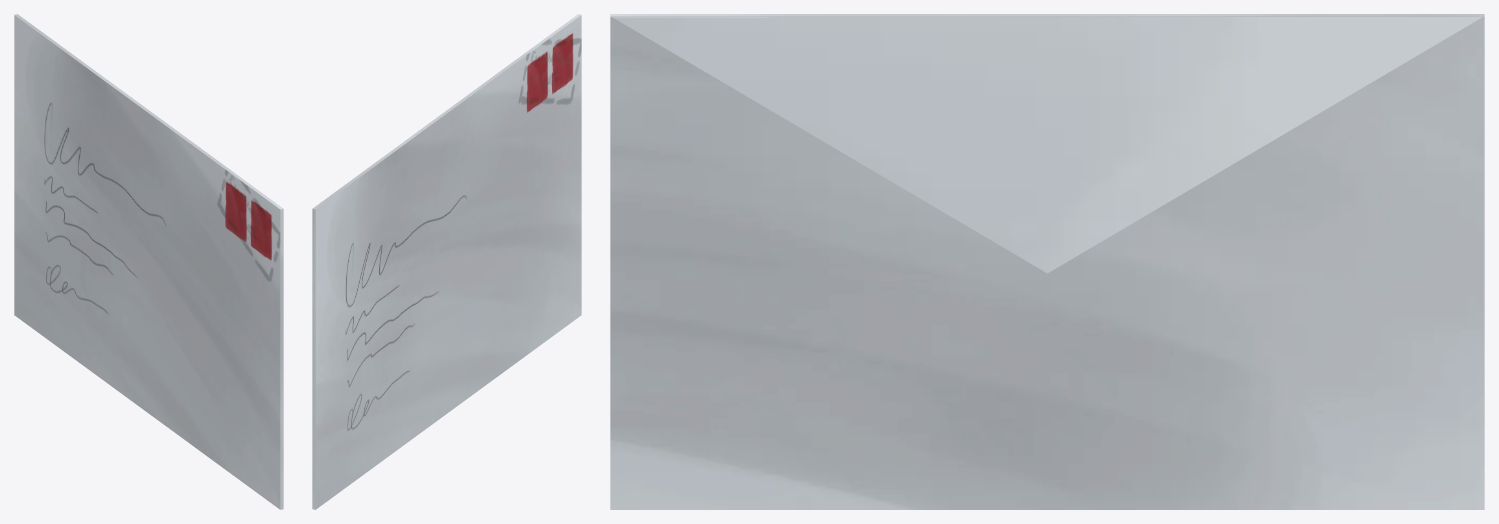
File: letter-transformed.glb
3 renders of one model, left to right at view 1: azimuth 30°, elevation 25°; view 2: azimuth 150°, elevation 25°; view 3: azimuth 270°, elevation 25°, orthographic. The views are drawn at different scales.
Visible parts, largest first — view 1: Cube_0; view 2: Cube_0; view 3: Cube_0.
Part boxes in pixels (box(x1,y1,x2,y2)): Cube_0: box(14, 14, 283, 509); Cube_0: box(312, 14, 581, 509); Cube_0: box(610, 14, 1484, 509).
Size of the model in its own units: 0.0509 by 0.8572 by 1.38.
1 material, 1 textured.
